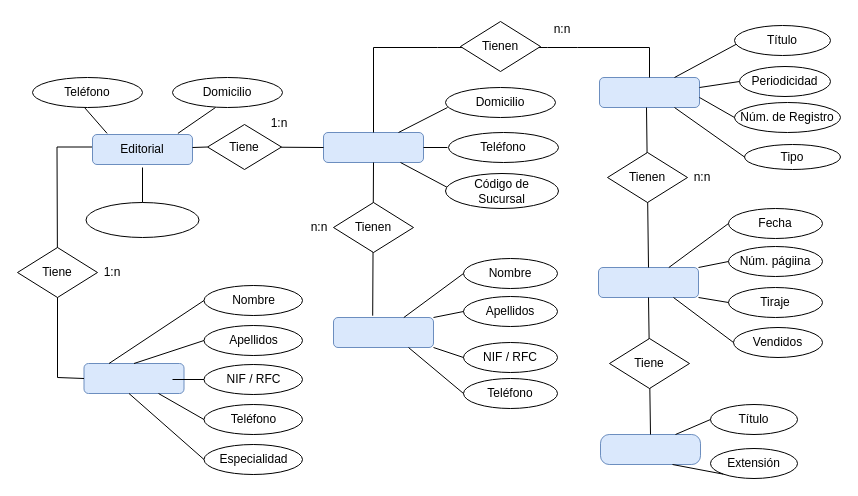
Some shapes in this 858 by 496 pixel diagram are drawn without their labels. The centre of each missing label's shape, as x and y in pixels:
Código de Sucursales: point 142,220
Ejemplar: point 648,282
Empleados: point 383,332
Periodistas: point 133,378
Revistas: point 649,92
Secciones fijas: point 650,449
Sucursales: point 373,147
